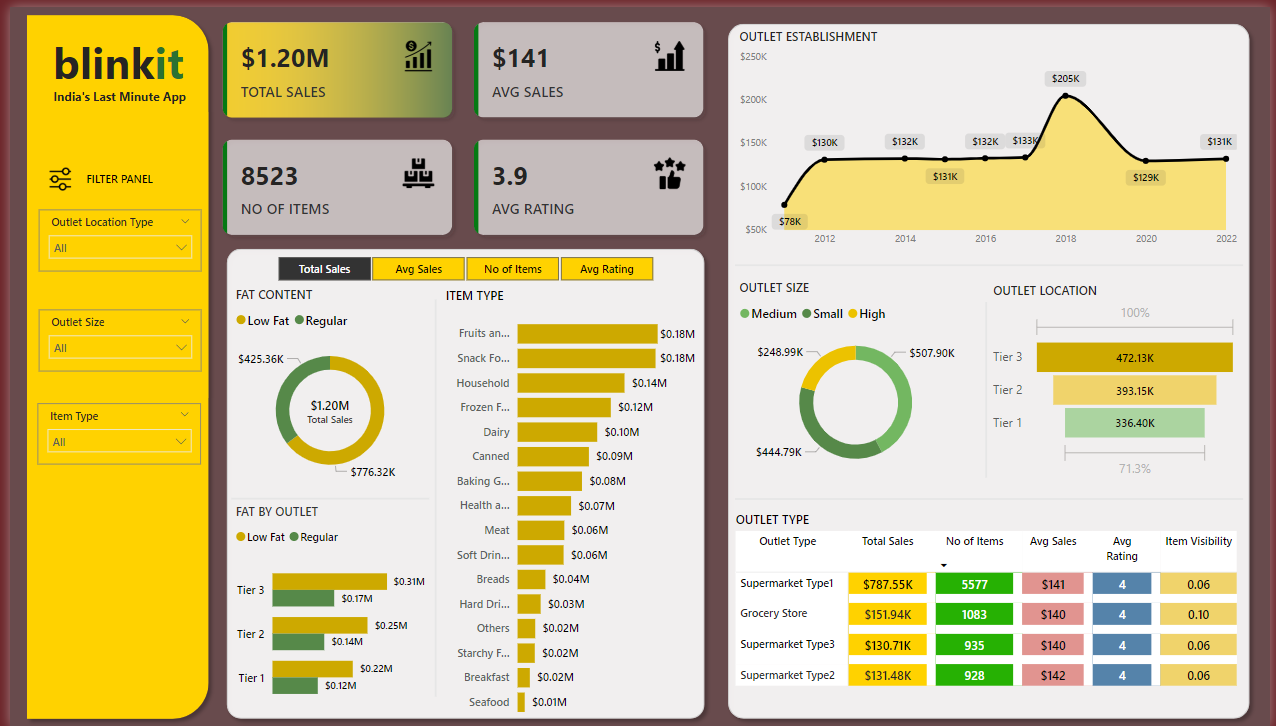

What the dashboard file says about the page in this screenshot:
{"tool":"powerbi","page":{"name":"Blinkit","canvas":[1400,800],"ordinal":0},"visuals":[{"type":"shape","box":[10,0,220,800],"z":0},{"type":"textbox","box":[35.7,24.3,168.6,75.7],"z":1000},{"type":"textbox","box":[37.1,84.3,168.6,31.4],"z":2000},{"type":"cardVisual","fields":{"Data":["BlinkIT Grocery Data.Total Sales","BlinkIT Grocery Data.Avg Sales","BlinkIT Grocery Data.No of Items","BlinkIT Grocery Data.Avg Rating"]},"box":[220,0,568.6,271.4],"z":3000},{"type":"shape","box":[231.4,260,548.6,540],"z":4000},{"type":"slicer","fields":{"Values":["Metrics.Metrics"]},"box":[272.1,270.9,466.3,38.3],"z":5000},{"type":"donutChart","title":"FAT CONTENT","fields":{"Y":["BlinkIT Grocery Data.Total Sales"],"Category":["BlinkIT Grocery Data.Item Fat Content"]},"box":[246.2,310,220,230],"z":6000},{"type":"cardVisual","fields":{"Data":["BlinkIT Grocery Data.Total Sales"]},"box":[301.4,414.3,108.6,70],"z":7000},{"type":"clusteredBarChart","title":"FAT BY OUTLET","fields":{"Y":["BlinkIT Grocery Data.Total Sales"],"Category":["BlinkIT Grocery Data.Outlet Location Type"],"Series":["BlinkIT Grocery Data.Item Fat Content"]},"box":[245.7,551.4,220,238.6],"z":8000},{"type":"shape","box":[246.2,542.3,220,9.2],"z":9000},{"type":"shape","box":[466.2,325,12.5,441.2],"z":10000},{"type":"barChart","title":"ITEM TYPE","fields":{"Y":["BlinkIT Grocery Data.Total Sales"],"Category":["BlinkIT Grocery Data.Item Type"]},"box":[478.6,311.4,287.1,488.6],"z":11000},{"type":"shape","box":[788.6,10,597.1,790],"z":12000},{"type":"lineChart","title":"OUTLET ESTABLISHMENT","fields":{"Y":["BlinkIT Grocery Data.Total Sales"],"Category":["BlinkIT Grocery Data.Outlet Establishment Year"]},"box":[805.7,24.3,562.9,251.4],"z":13000},{"type":"shape","box":[805.5,280.9,564.5,12.7],"z":14000},{"type":"donutChart","title":"OUTLET SIZE","fields":{"Y":["BlinkIT Grocery Data.Total Sales"],"Category":["BlinkIT Grocery Data.Outlet Size"]},"box":[805.3,302.7,268.6,225.7],"z":15000},{"type":"shape","box":[1080,327.3,8.2,195.5],"z":16000},{"type":"funnel","title":"OUTLET LOCATION","fields":{"Y":["Sum(BlinkIT Grocery Data.Sales)"],"Category":["BlinkIT Grocery Data.Outlet Location Type"]},"box":[1088.2,305.5,281.4,222.9],"z":17000},{"type":"shape","box":[805.5,540,564.5,12.7],"z":18000},{"type":"pivotTable","title":"OUTLET TYPE","fields":{"Rows":["BlinkIT Grocery Data.Outlet Type"],"Values":["BlinkIT Grocery Data.Total Sales","BlinkIT Grocery Data.No of Items","BlinkIT Grocery Data.Avg Sales","BlinkIT Grocery Data.Avg Rating","Avg(BlinkIT Grocery Data.Item Visibility)"]},"box":[801.8,560,568.2,210.9],"z":19000},{"type":"slicer","fields":{"Values":["BlinkIT Grocery Data.Outlet Location Type"]},"box":[32.5,225,180.8,69.2],"z":20000},{"type":"slicer","fields":{"Values":["BlinkIT Grocery Data.Outlet Size"]},"box":[31.7,335.8,180.8,69.2],"z":21000},{"type":"slicer","fields":{"Values":["BlinkIT Grocery Data.Item Type"]},"box":[30.8,440,181.7,68.3],"z":22000},{"type":"shape","box":[71.4,174.3,101.4,32.9],"z":23000},{"type":"image","box":[37.1,174.3,37.1,35.7],"z":24000}]}

Visuals, with their boxes in screenshot pixels (x1, y1, x2, y2), scaled from the page's 1400x800 canvas onto the 1276x726 screenshot:
shape: x1=9 y1=0 x2=210 y2=725
textbox: x1=33 y1=22 x2=186 y2=91
textbox: x1=34 y1=77 x2=187 y2=105
cardVisual - BlinkIT Grocery Data.Total Sales x BlinkIT Grocery Data.Avg Sales: x1=201 y1=0 x2=719 y2=246
shape: x1=211 y1=236 x2=711 y2=725
slicer - Metrics.Metrics: x1=248 y1=246 x2=673 y2=281
"FAT CONTENT" donutChart: x1=224 y1=281 x2=425 y2=490
cardVisual - BlinkIT Grocery Data.Total Sales: x1=275 y1=376 x2=374 y2=440
"FAT BY OUTLET" clusteredBarChart: x1=224 y1=500 x2=424 y2=717
shape: x1=224 y1=492 x2=425 y2=500
shape: x1=425 y1=295 x2=436 y2=695
"ITEM TYPE" barChart: x1=436 y1=283 x2=698 y2=725
shape: x1=719 y1=9 x2=1263 y2=725
"OUTLET ESTABLISHMENT" lineChart: x1=734 y1=22 x2=1247 y2=250
shape: x1=734 y1=255 x2=1249 y2=266
"OUTLET SIZE" donutChart: x1=734 y1=275 x2=979 y2=480
shape: x1=984 y1=297 x2=992 y2=474
"OUTLET LOCATION" funnel: x1=992 y1=277 x2=1248 y2=480
shape: x1=734 y1=490 x2=1249 y2=502
"OUTLET TYPE" pivotTable: x1=731 y1=508 x2=1249 y2=700
slicer - BlinkIT Grocery Data.Outlet Location Type: x1=30 y1=204 x2=194 y2=267
slicer - BlinkIT Grocery Data.Outlet Size: x1=29 y1=305 x2=194 y2=368
slicer - BlinkIT Grocery Data.Item Type: x1=28 y1=399 x2=194 y2=461
shape: x1=65 y1=158 x2=157 y2=188
image: x1=34 y1=158 x2=68 y2=191
